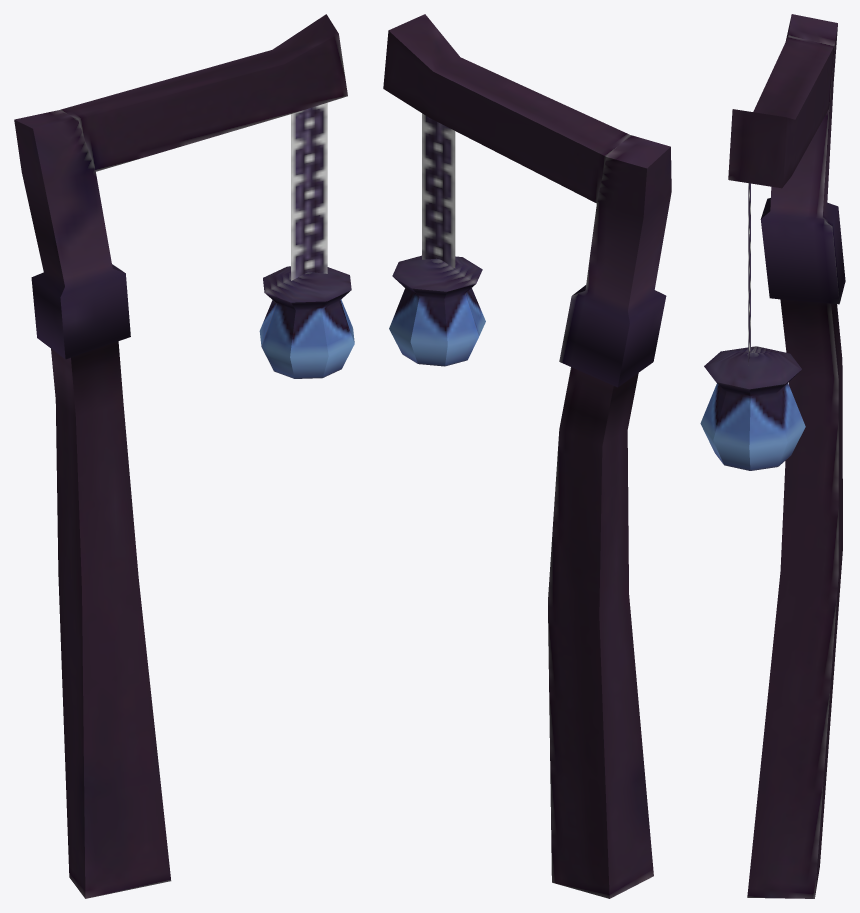
The model's file is Crypt_Light_0.fbx.
The picture shows the model from 3 angles, left to right: view 1: azimuth 30°, elevation 25°; view 2: azimuth 150°, elevation 25°; view 3: azimuth 270°, elevation 25°; orthographic projection. The views are drawn at different scales.
Parts seen in each view (by area): view 1: Crypt_Light_0; view 2: Crypt_Light_0; view 3: Crypt_Light_0.
Part boxes in pixels (<box>): Crypt_Light_0: <box>14,14,354,898</box>; Crypt_Light_0: <box>383,14,671,898</box>; Crypt_Light_0: <box>700,14,845,898</box>.
Bounding box in the file's own units: 1.68 × 4.37 × 0.6553.
1 material, 1 textured.
